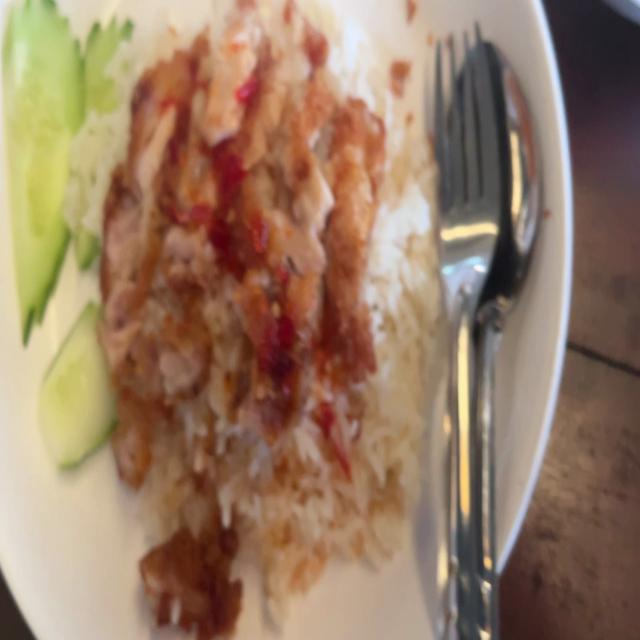chicken_rice: (0, 0, 438, 640)
cucumber: (0, 0, 132, 338), (40, 308, 124, 470)
fried_chicken: (109, 12, 375, 440), (129, 506, 254, 640)
